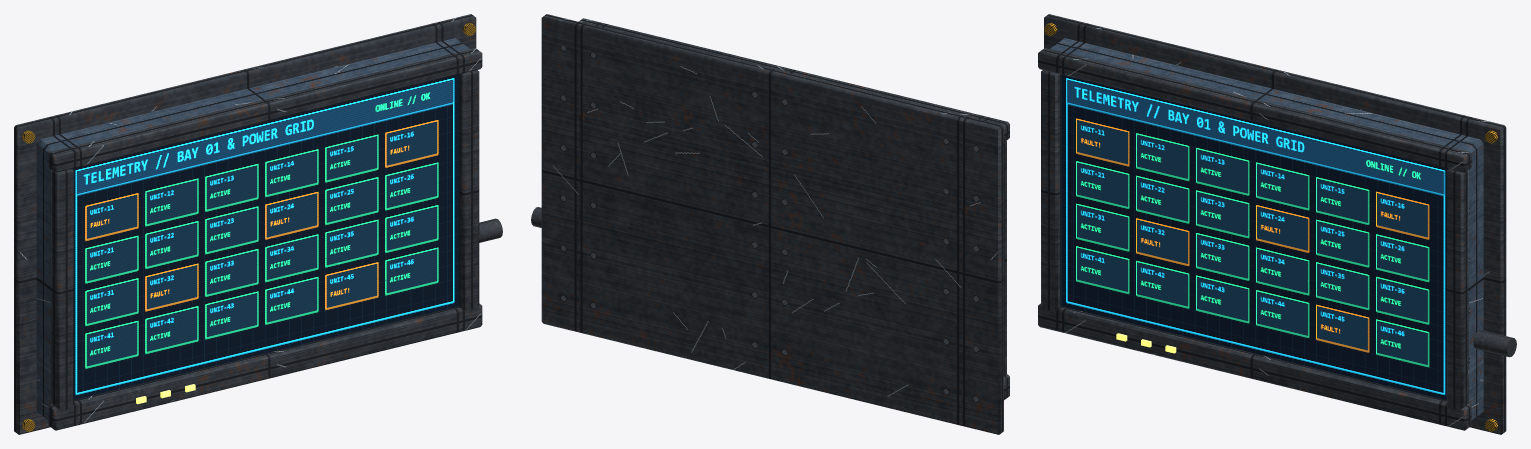
The model's file is wall_telemetry_screen_04.glb.
3 renders of one model, left to right at view 1: azimuth 30°, elevation 25°; view 2: azimuth 150°, elevation 25°; view 3: azimuth 330°, elevation 25°, orthographic.
Parts seen in each view (by area): view 1: pantalla_pared; view 2: pantalla_pared; view 3: pantalla_pared.
Boxes of the visible parts, left/top/right/bottom form: pantalla_pared: left=14, top=14, right=502, bottom=434; pantalla_pared: left=531, top=14, right=1009, bottom=434; pantalla_pared: left=1038, top=14, right=1516, bottom=434.
Size of the model in its own units: 1.55 by 0.96 by 0.159.
Materials: 5 (4 with a texture image).
